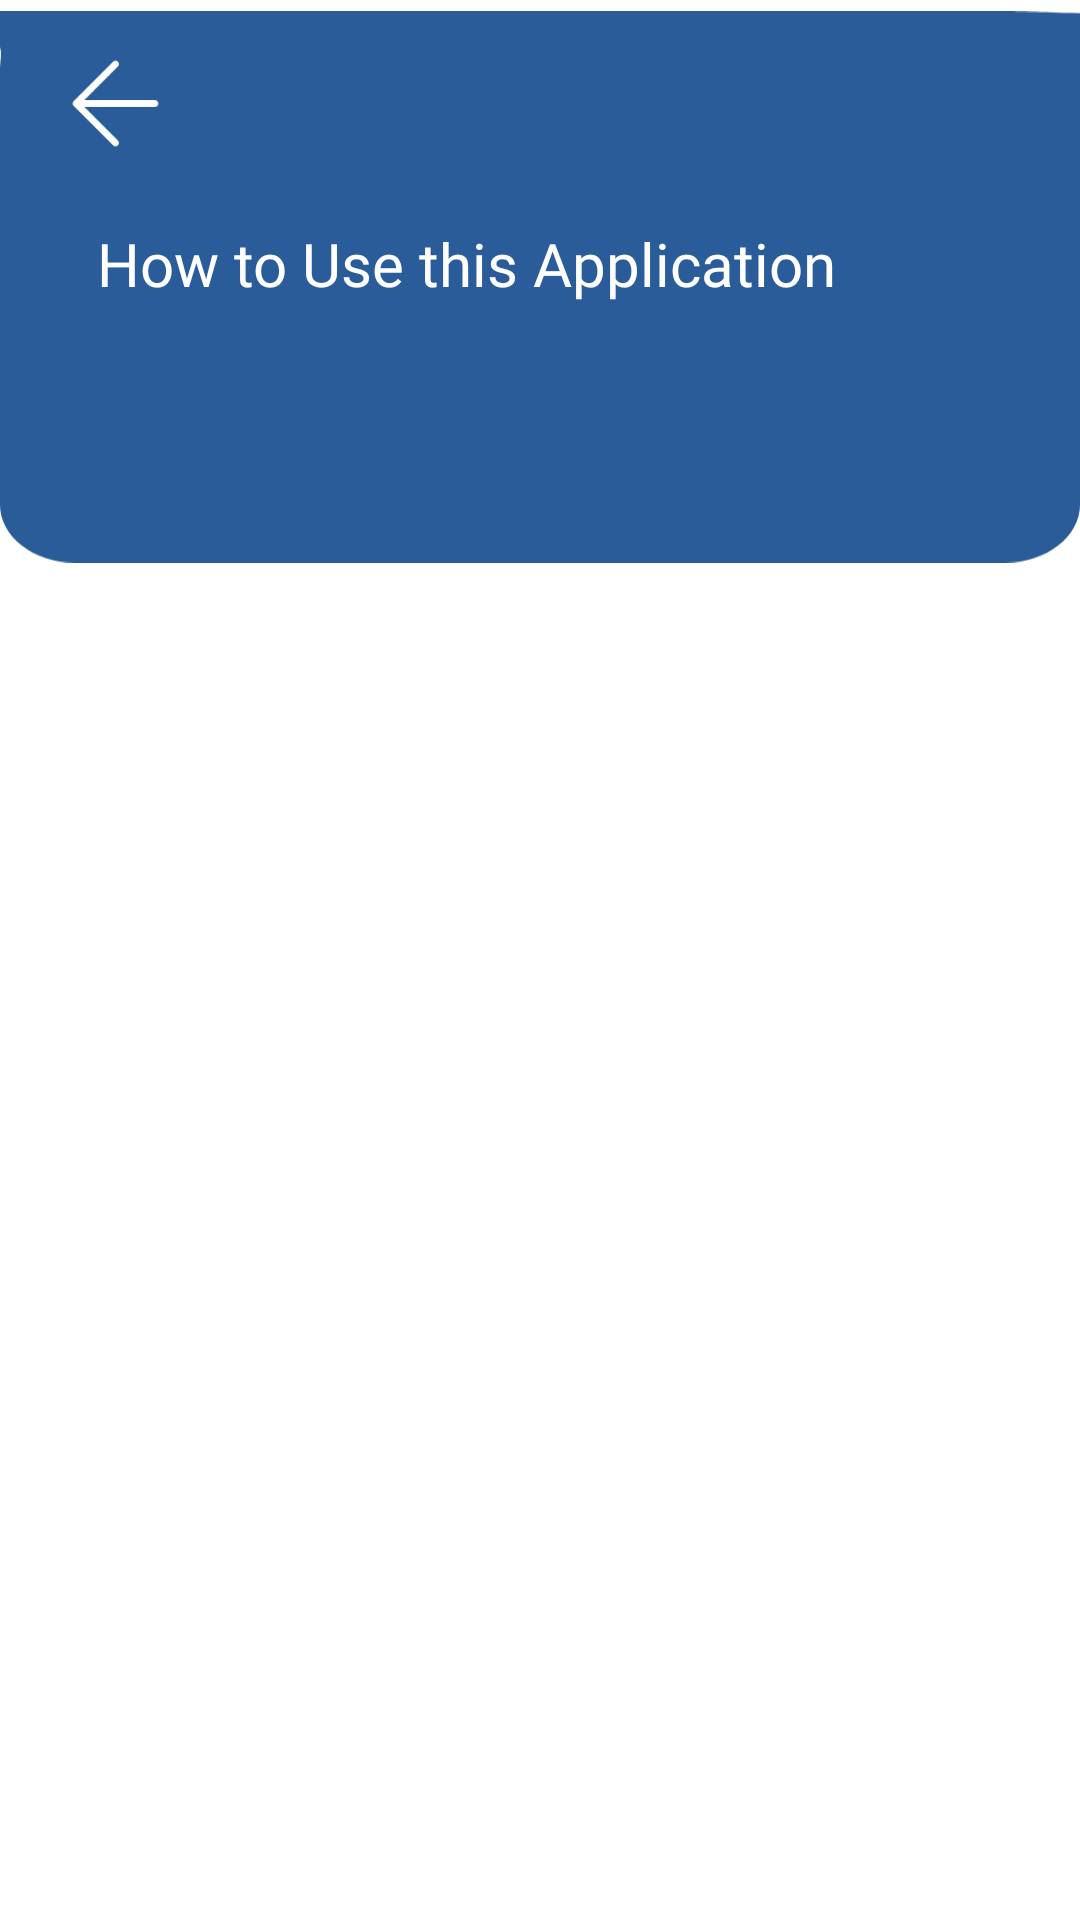

Named icons in this screenshot (1080px x 1920px) and their centers, point (x, y):
arrow left: point (115, 103)
